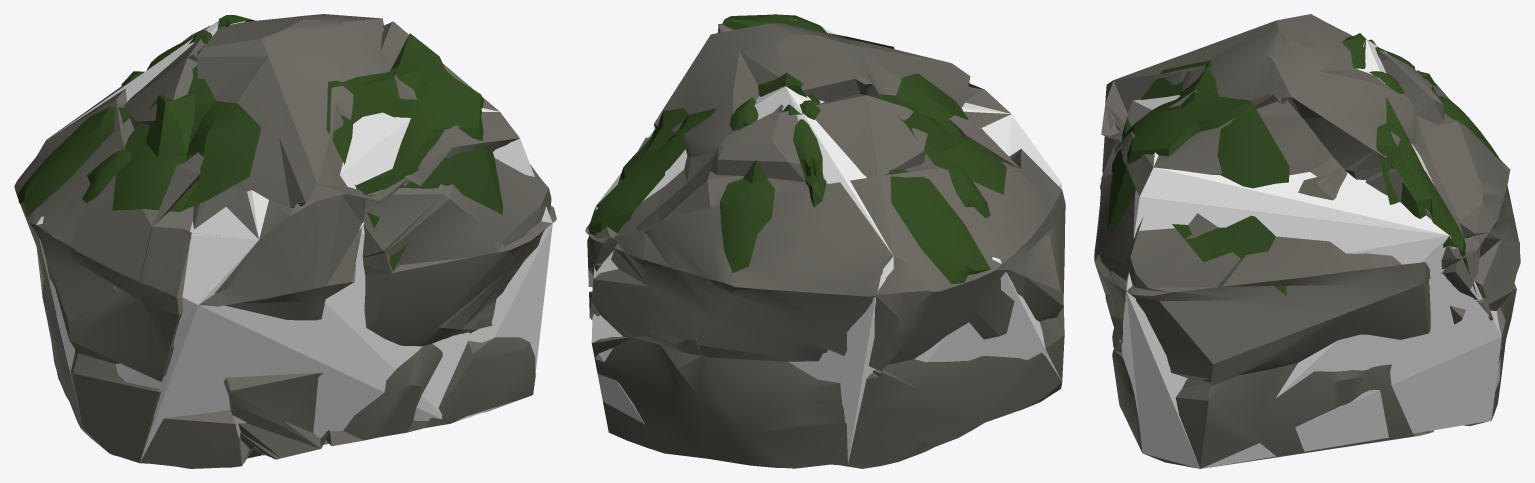
Rendered from Rock_L.fbx.
The picture shows the model from 3 angles, left to right: view 1: azimuth 30°, elevation 25°; view 2: azimuth 150°, elevation 25°; view 3: azimuth 270°, elevation 25°; orthographic projection. The views are drawn at different scales.
Parts seen in each view (by area): view 1: Rock_L_Body, COL_Rock_L; view 2: Rock_L_Body, COL_Rock_L; view 3: Rock_L_Body, COL_Rock_L.
Boxes of the visible parts, x1=… form: Rock_L_Body: x1=14, y1=14, x2=556, y2=468; COL_Rock_L: x1=36, y1=20, x2=552, y2=461; Rock_L_Body: x1=585, y1=14, x2=1065, y2=468; COL_Rock_L: x1=591, y1=28, x2=1061, y2=463; Rock_L_Body: x1=1094, y1=14, x2=1520, y2=468; COL_Rock_L: x1=1119, y1=39, x2=1501, y2=468.
Size of what is drawn, in the model's own units: 2.48 by 1.9 by 2.12.
